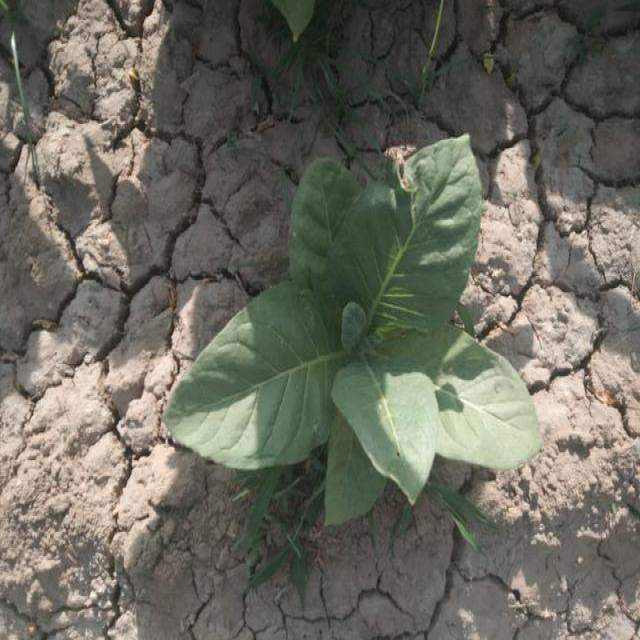crop: (166, 154, 544, 523)
